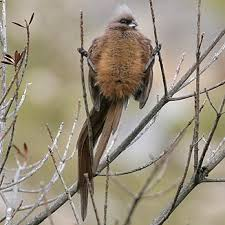target: (76, 4, 156, 223)
